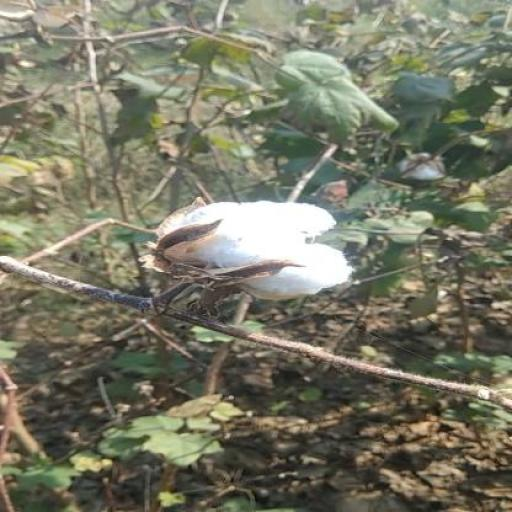cotton_ready: (104, 179, 370, 355)
